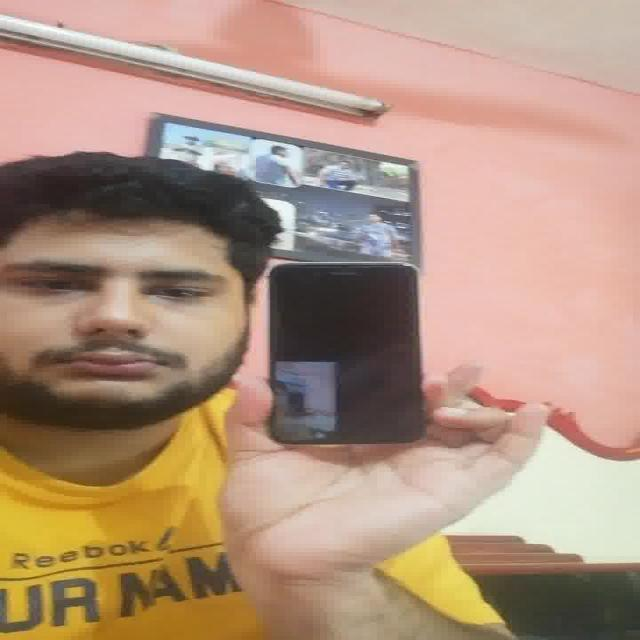Phone: (266, 256, 428, 452)
